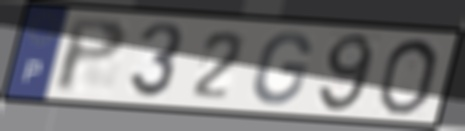2: (189, 29, 246, 101)
3: (127, 20, 185, 100)
9: (315, 31, 378, 114)
G: (250, 30, 314, 107)
O: (374, 37, 441, 117)
P: (53, 16, 130, 96)
